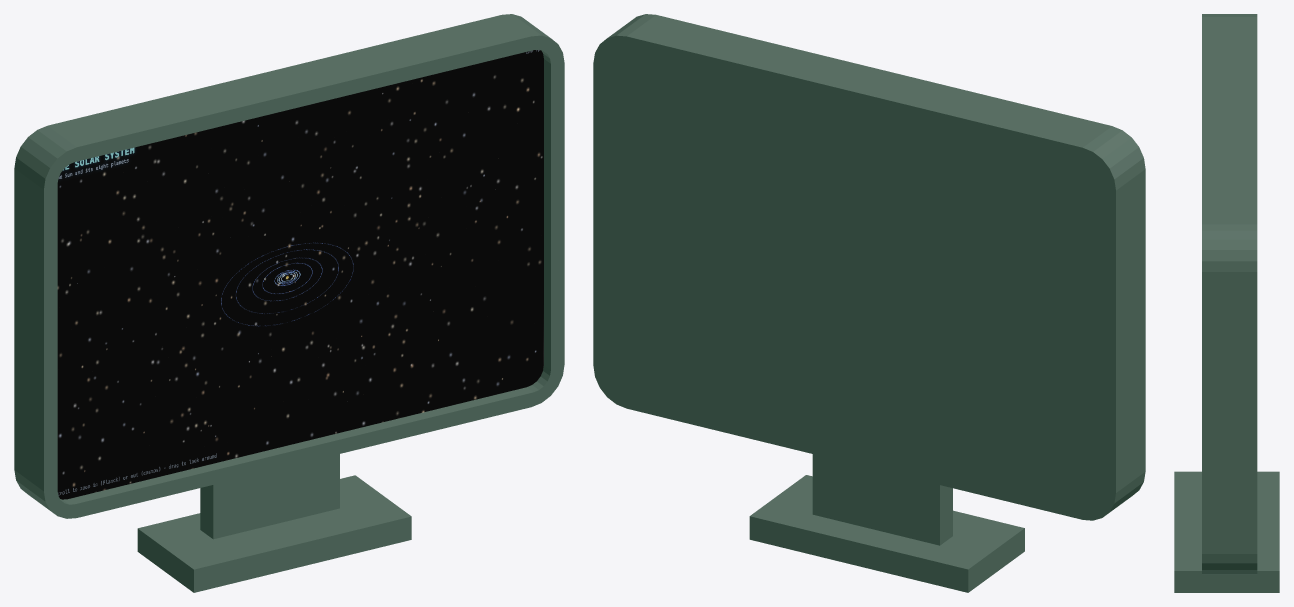
File: made-with-ai-tv-2-hq.glb
3 views of the same model, side by side, from view 1: azimuth 30°, elevation 25°; view 2: azimuth 150°, elevation 25°; view 3: azimuth 270°, elevation 25° (orthographic). The views are drawn at different scales.
Parts seen in each view (by area): view 1: Cube.001; view 2: Cube.001; view 3: Cube.001.
Part boxes in pixels (bbox=[...]): Cube.001: bbox=[14, 14, 564, 592]; Cube.001: bbox=[593, 14, 1145, 592]; Cube.001: bbox=[1174, 14, 1279, 592].
Bounding box in the file's own units: 4.58 × 3.87 × 0.8596.
2 materials, 1 textured.
